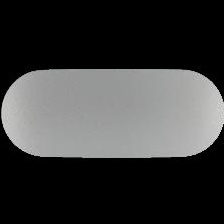33342-023: (0, 0, 224, 224)
